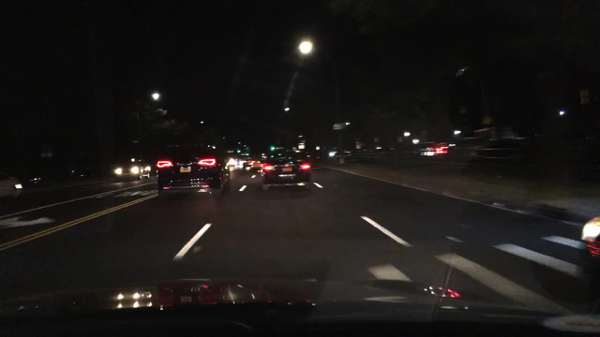car: (155, 145, 228, 190), (260, 152, 312, 189), (580, 215, 599, 272), (111, 162, 151, 180), (415, 141, 450, 159), (8, 173, 44, 189), (70, 169, 95, 178), (251, 159, 265, 171), (242, 159, 255, 169), (223, 158, 236, 167), (327, 150, 337, 158), (235, 159, 246, 166)
traffic light: (236, 149, 241, 154), (271, 146, 275, 151)
traffic sign: (41, 146, 53, 158), (131, 141, 140, 144)
